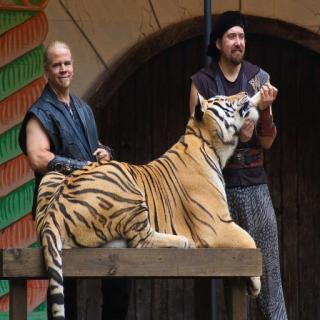Tiger: (31, 90, 266, 314)
